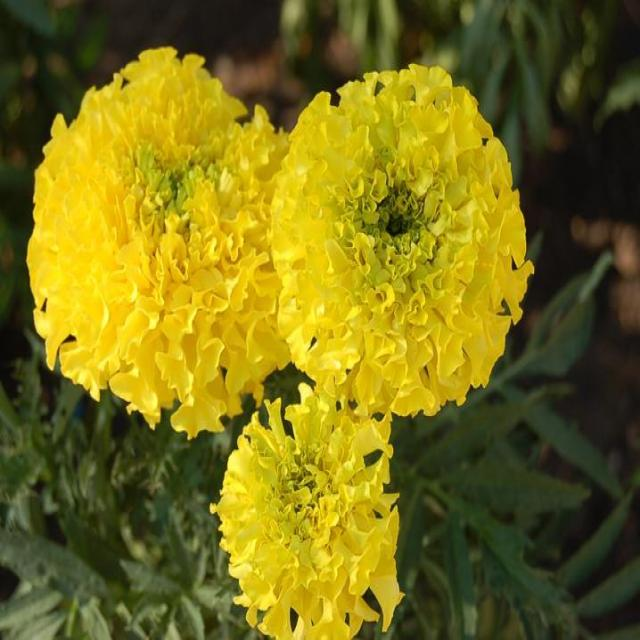azalea: (136, 51, 640, 639)
